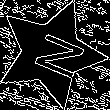N_NW: (19, 25, 82, 82)
